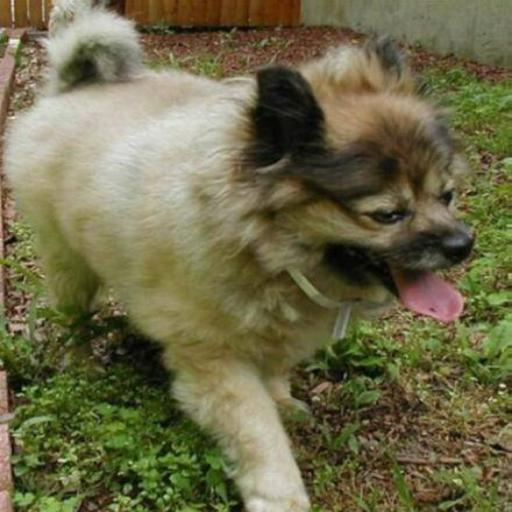Dog: (0, 11, 498, 512)
